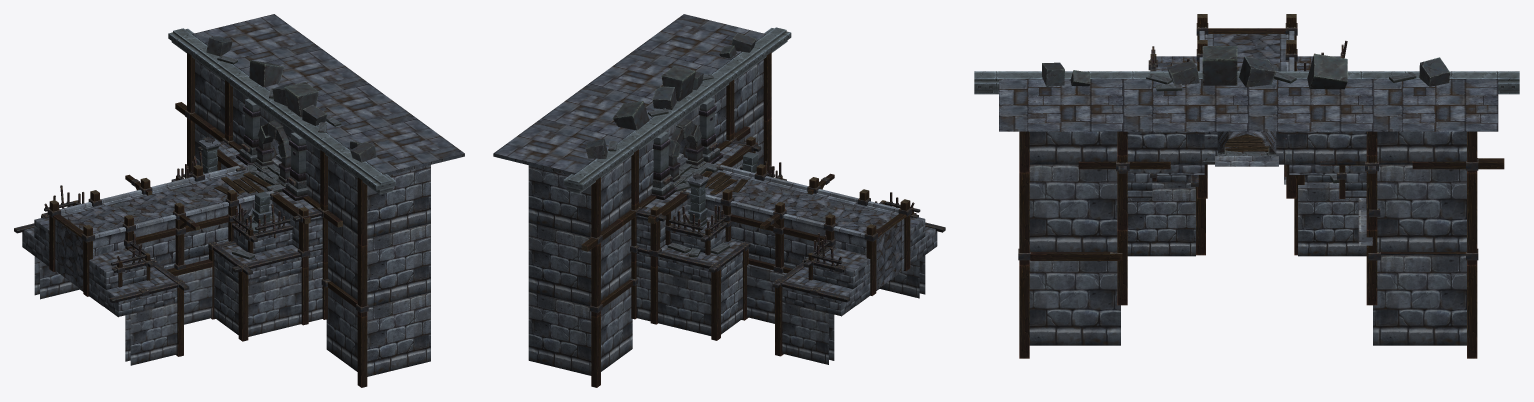
The model's file is bridgestart.fbx.
3 renders of one model, left to right at view 1: azimuth 30°, elevation 25°; view 2: azimuth 150°, elevation 25°; view 3: azimuth 270°, elevation 25°, orthographic. The views are drawn at different scales.
Parts seen in each view (by area): view 1: bridgestart; view 2: bridgestart; view 3: bridgestart.
Part boxes in pixels (box(x1,y1,x2,y2)): bridgestart: box(14, 14, 464, 387); bridgestart: box(493, 14, 945, 387); bridgestart: box(974, 14, 1519, 358).
Size of the model in its own units: 16.5 by 12.26 by 19.35.
